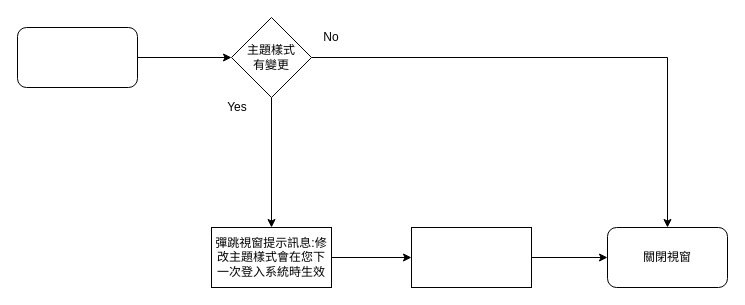
Image size: 745x305. Some labels were removed from this diagram. Here are the shapes that lost their labels. From the top down, the centre of each, then its label:
At pixel 77 57: "點擊按鈕.確定".
At pixel 471 257: "儲存主題樣式設定".
